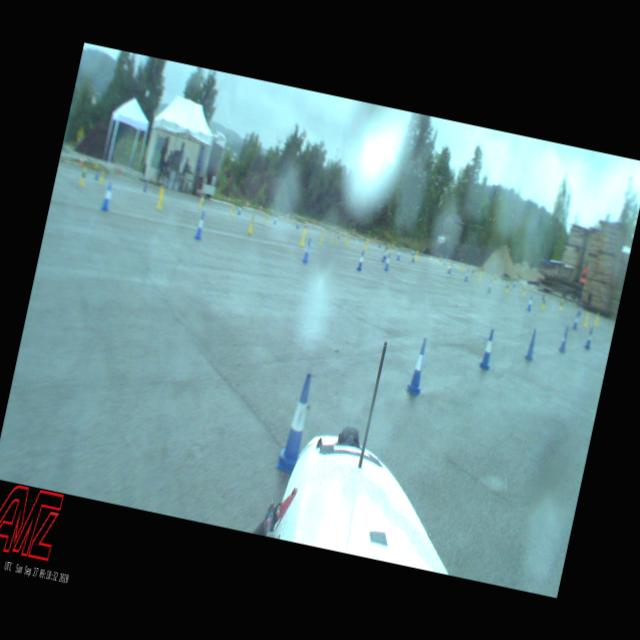blue_cone: (275, 370, 315, 472), (405, 336, 431, 394), (478, 327, 498, 369), (524, 328, 538, 359), (100, 181, 114, 211), (193, 211, 206, 239), (558, 326, 570, 352), (301, 238, 312, 262), (355, 248, 366, 270), (584, 328, 593, 348), (526, 294, 534, 312), (571, 311, 579, 329), (380, 247, 388, 262), (384, 254, 391, 270), (142, 178, 148, 192), (396, 247, 402, 260), (236, 204, 242, 216), (94, 166, 100, 178), (486, 282, 492, 292), (411, 250, 416, 262), (464, 268, 468, 280), (448, 261, 452, 273), (272, 213, 276, 224), (296, 220, 300, 228)
orange_cone: (78, 154, 84, 166), (116, 164, 122, 175), (227, 193, 232, 204), (245, 200, 248, 207)
yellow_cone: (78, 166, 88, 186), (156, 190, 165, 210), (299, 228, 307, 247), (582, 311, 590, 327), (247, 217, 254, 234), (540, 296, 547, 310), (318, 232, 325, 246), (334, 230, 340, 244), (229, 204, 235, 216), (329, 232, 335, 244), (476, 270, 482, 281), (198, 195, 203, 208), (521, 284, 526, 296), (504, 280, 509, 292), (99, 171, 104, 183), (558, 299, 563, 310), (346, 233, 350, 246), (364, 238, 368, 250), (492, 274, 497, 283), (594, 315, 598, 326), (264, 214, 268, 224), (414, 250, 418, 260), (438, 255, 442, 265), (446, 259, 450, 269)
